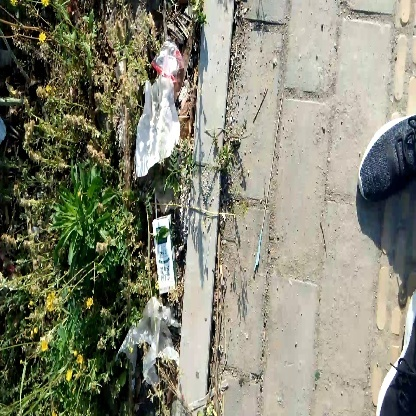milk-box: (148, 211, 179, 296)
